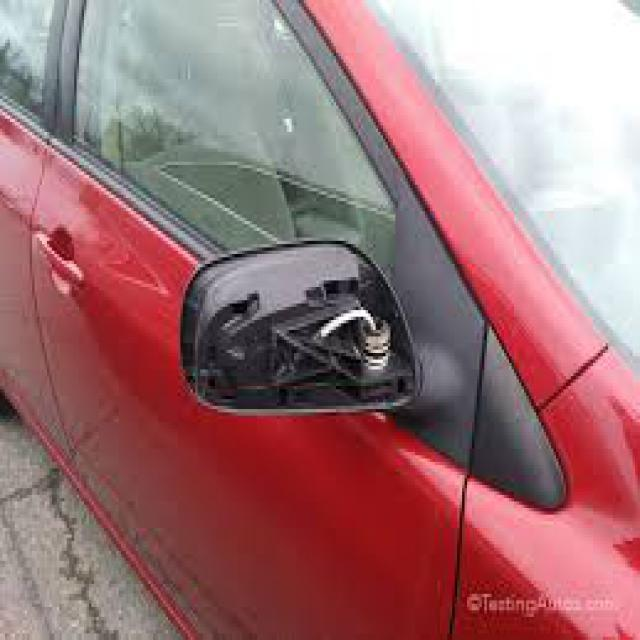Sidemirror-Damage: (165, 228, 435, 432)
